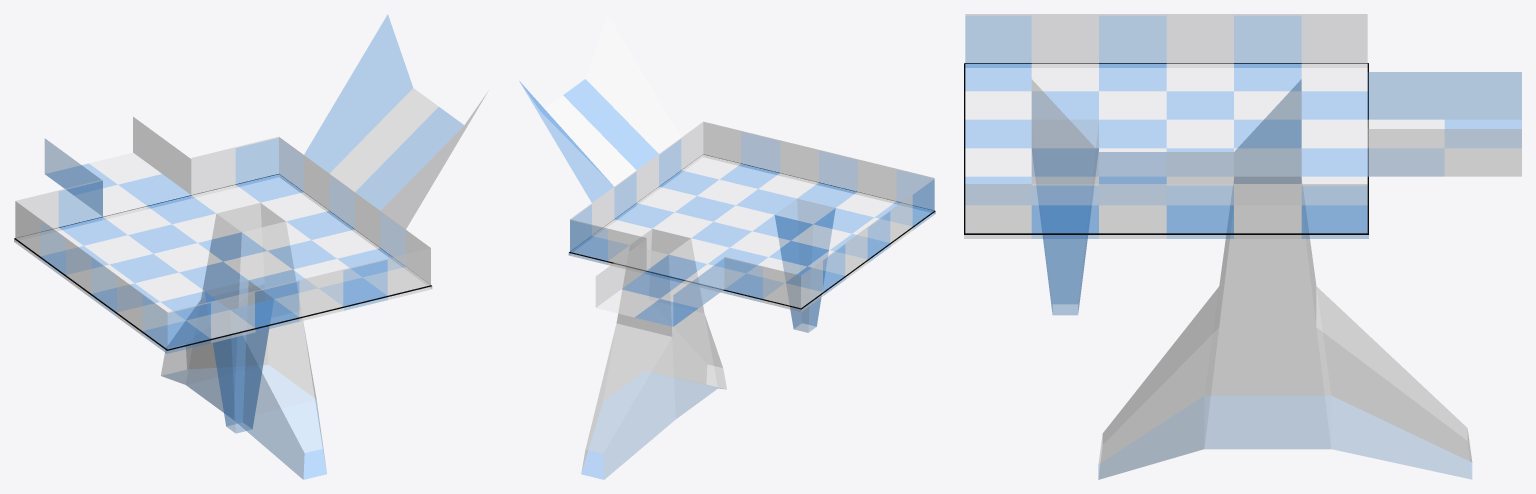
The model's file is simple-ground-1.glb.
The picture shows the model from 3 angles, left to right: view 1: azimuth 30°, elevation 25°; view 2: azimuth 150°, elevation 25°; view 3: azimuth 270°, elevation 25°; orthographic projection. The views are drawn at different scales.
Parts seen in each view (by area): view 1: plane; view 2: plane; view 3: plane.
Part boxes in pixels (box(x1,y1,x2,y2)): plane: box(14, 14, 487, 479); plane: box(519, 14, 935, 479); plane: box(964, 14, 1521, 479).
Bounding box in the file's own units: 13.13 × 13.35 × 13.77.
